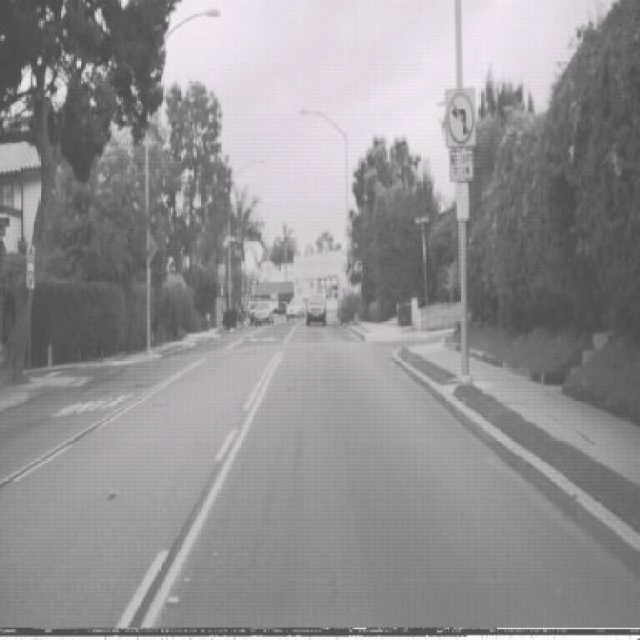noLeftTurn: (446, 86, 475, 147)
